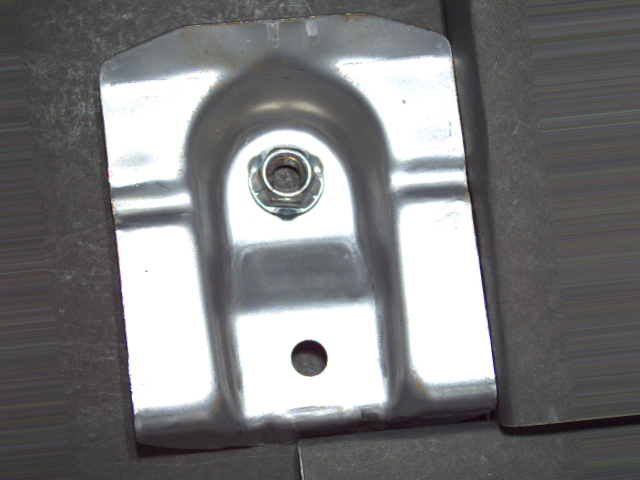good: (245, 141, 330, 220)
